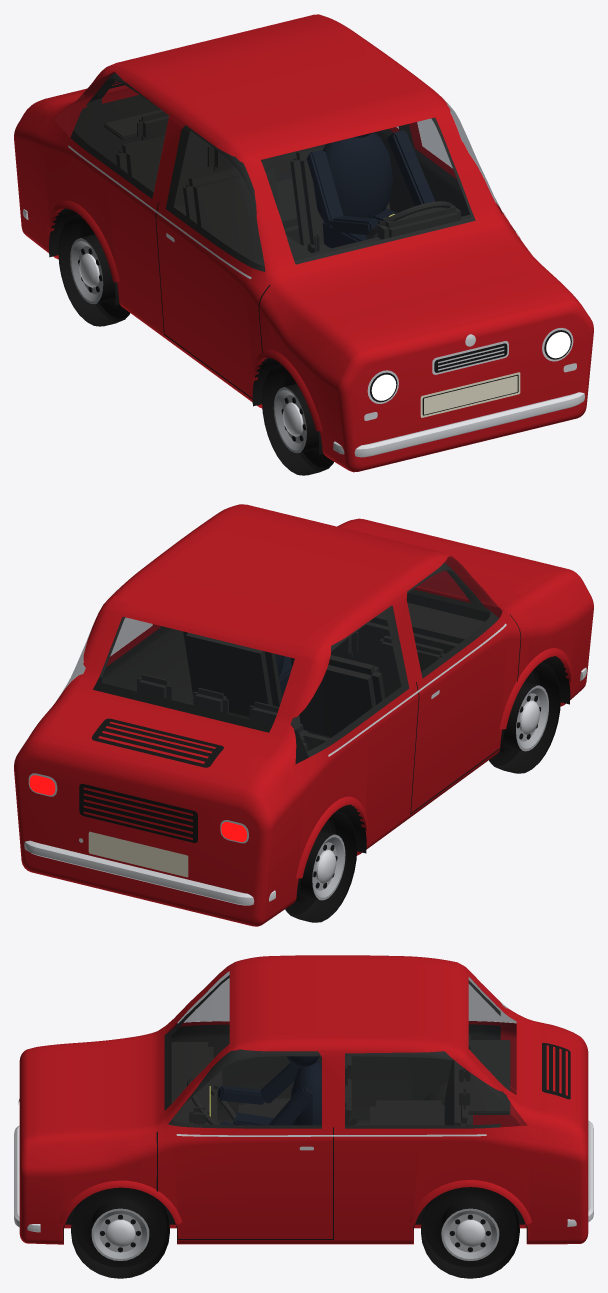
File: fiat126.glb
3 renders of one model, top to bottom at view 1: azimuth 30°, elevation 25°; view 2: azimuth 150°, elevation 25°; view 3: azimuth 270°, elevation 25°, orthographic. The views are drawn at different scales.
Parts seen in each view (by area): view 1: body, glass, interior, trim, wheel_rr, wheel_fr, lights; view 2: body, glass, interior, trim, wheel_rr, wheel_fr, lights; view 3: body, glass, interior, wheel_rl, wheel_fl, trim.
Part boxes in pixels (left/top/right/bottom): body: left=14, top=14, right=593, bottom=472; glass: left=54, top=72, right=501, bottom=271; interior: left=70, top=73, right=475, bottom=271; trim: left=23, top=80, right=584, bottom=457; wheel_rr: left=58, top=214, right=130, bottom=326; wheel_fr: left=262, top=364, right=333, bottom=475; lights: left=371, top=332, right=570, bottom=400; body: left=14, top=504, right=593, bottom=926; glass: left=61, top=556, right=501, bottom=763; interior: left=93, top=562, right=498, bottom=764; trim: left=24, top=614, right=586, bottom=905; wheel_rr: left=285, top=810, right=357, bottom=922; wheel_fr: left=489, top=662, right=560, bottom=773; lights: left=29, top=775, right=246, bottom=841; body: left=19, top=955, right=588, bottom=1244; glass: left=164, top=971, right=526, bottom=1128; interior: left=164, top=975, right=510, bottom=1128; wheel_rl: left=421, top=1187, right=519, bottom=1278; wheel_fl: left=71, top=1187, right=169, bottom=1278; trim: left=14, top=1043, right=593, bottom=1243.
Bounding box in the file's own units: 1.38 × 1.35 × 3.05.
